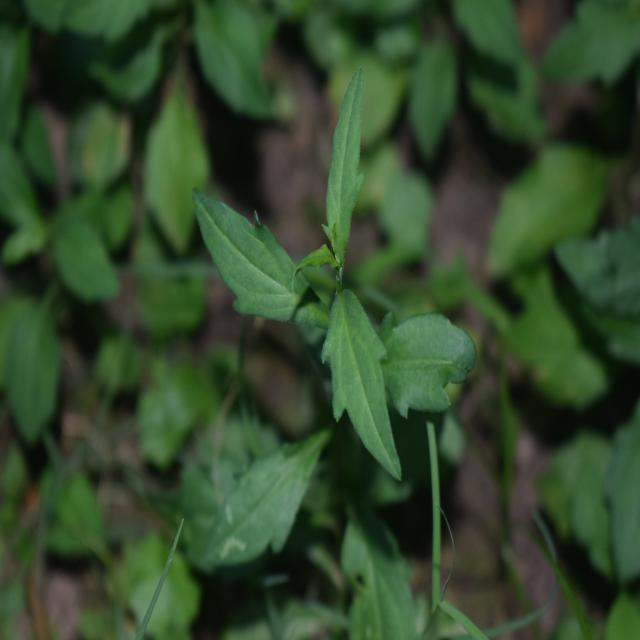Indian aster: (192, 130, 478, 572)
